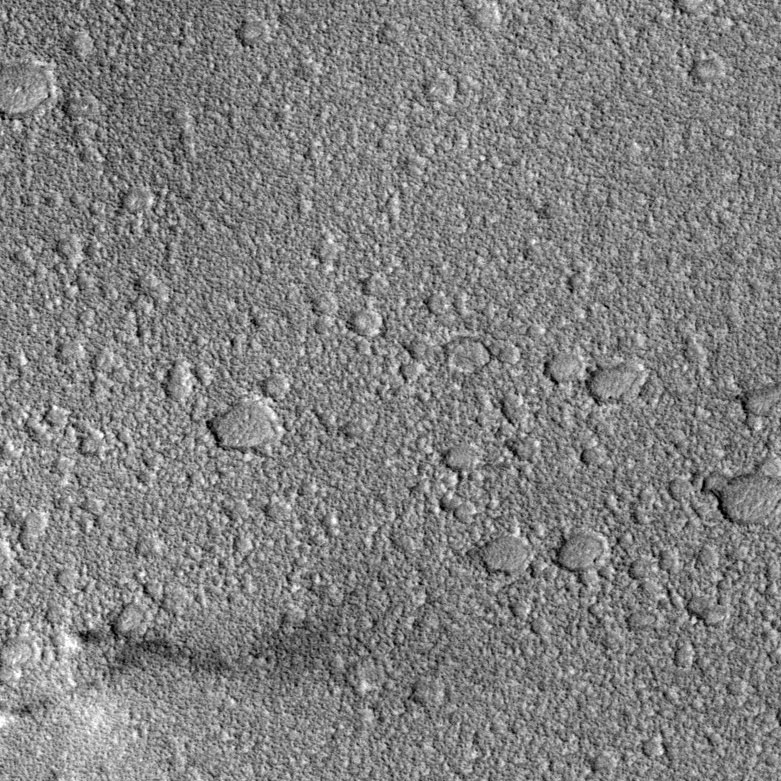dust_devil: (56, 619, 343, 692), (1, 655, 132, 732)
